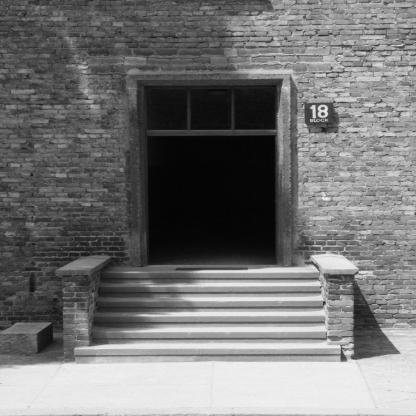door: (123, 67, 295, 269)
stair: (87, 254, 338, 367)
